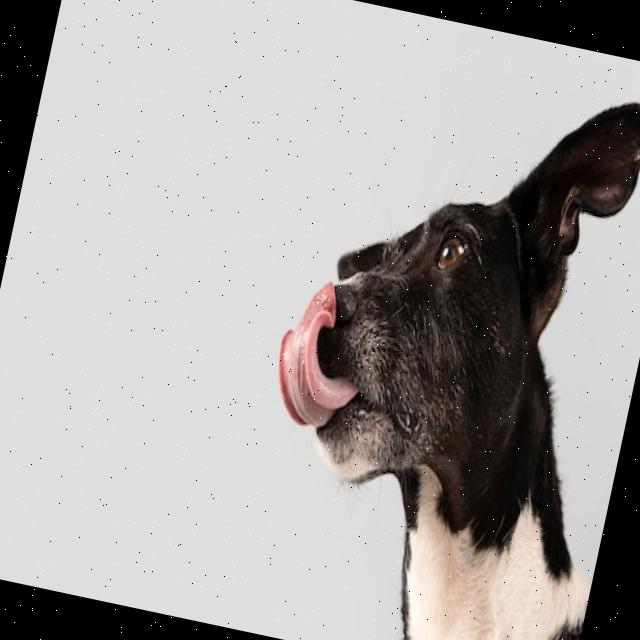Dog: (221, 39, 640, 640)
